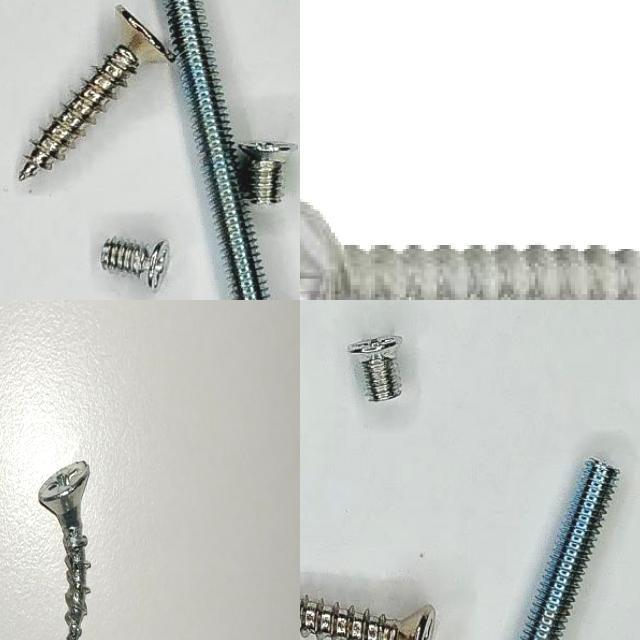Screw: (300, 200, 640, 300), (163, 0, 269, 300), (19, 5, 174, 180), (521, 459, 620, 640), (38, 460, 90, 640), (300, 597, 434, 640), (347, 336, 401, 402), (239, 144, 297, 205), (101, 240, 168, 291)
